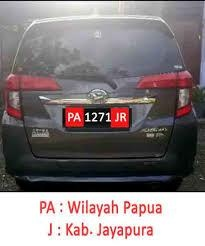plate: (62, 106, 130, 129)
